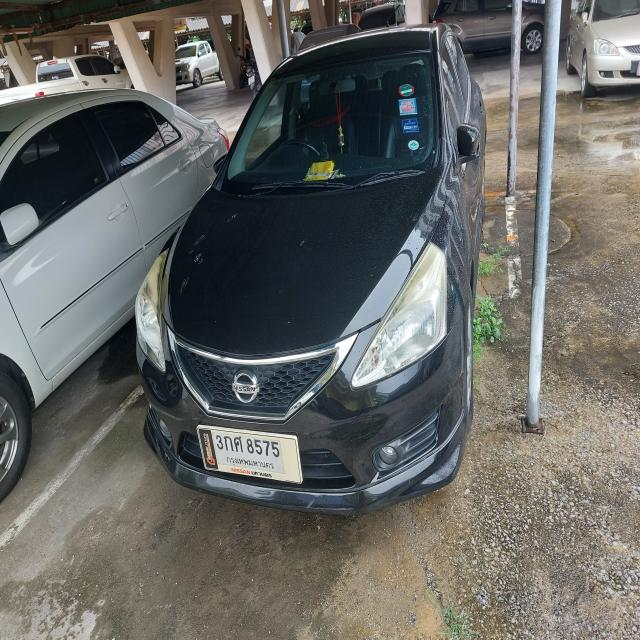car: (133, 21, 489, 516)
license_plate: (197, 425, 303, 484)
plate_number: (215, 433, 280, 458)
province: (225, 456, 275, 470)
